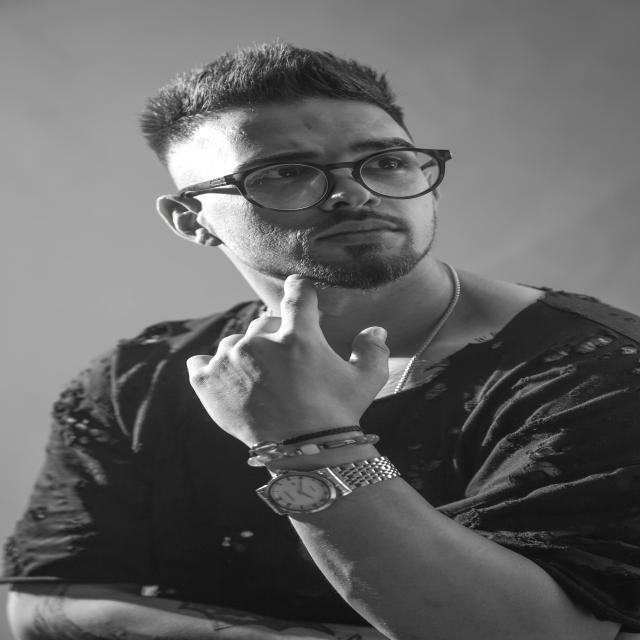oculos: (165, 146, 462, 213)
relogio: (252, 456, 410, 520)
